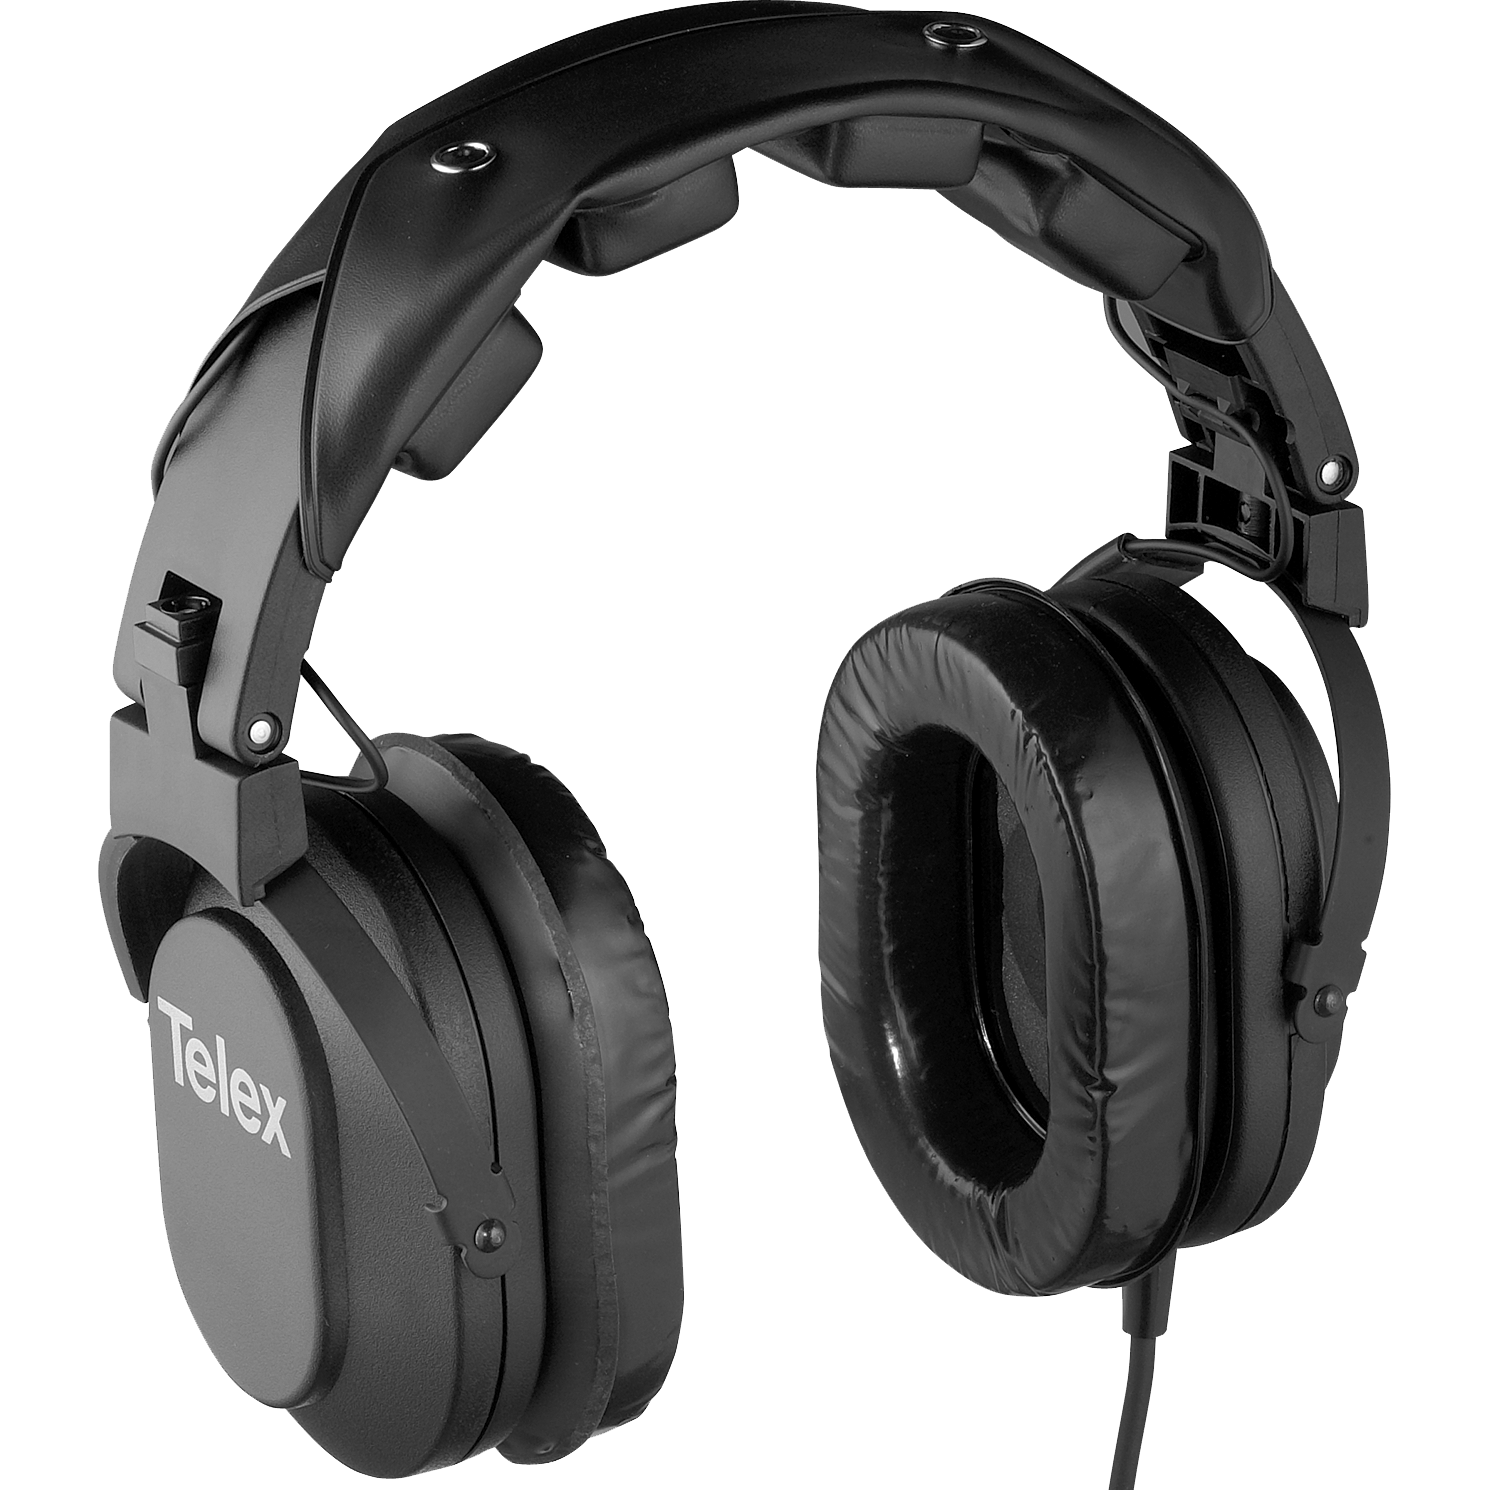headphone: (100, 16, 1450, 1490)
